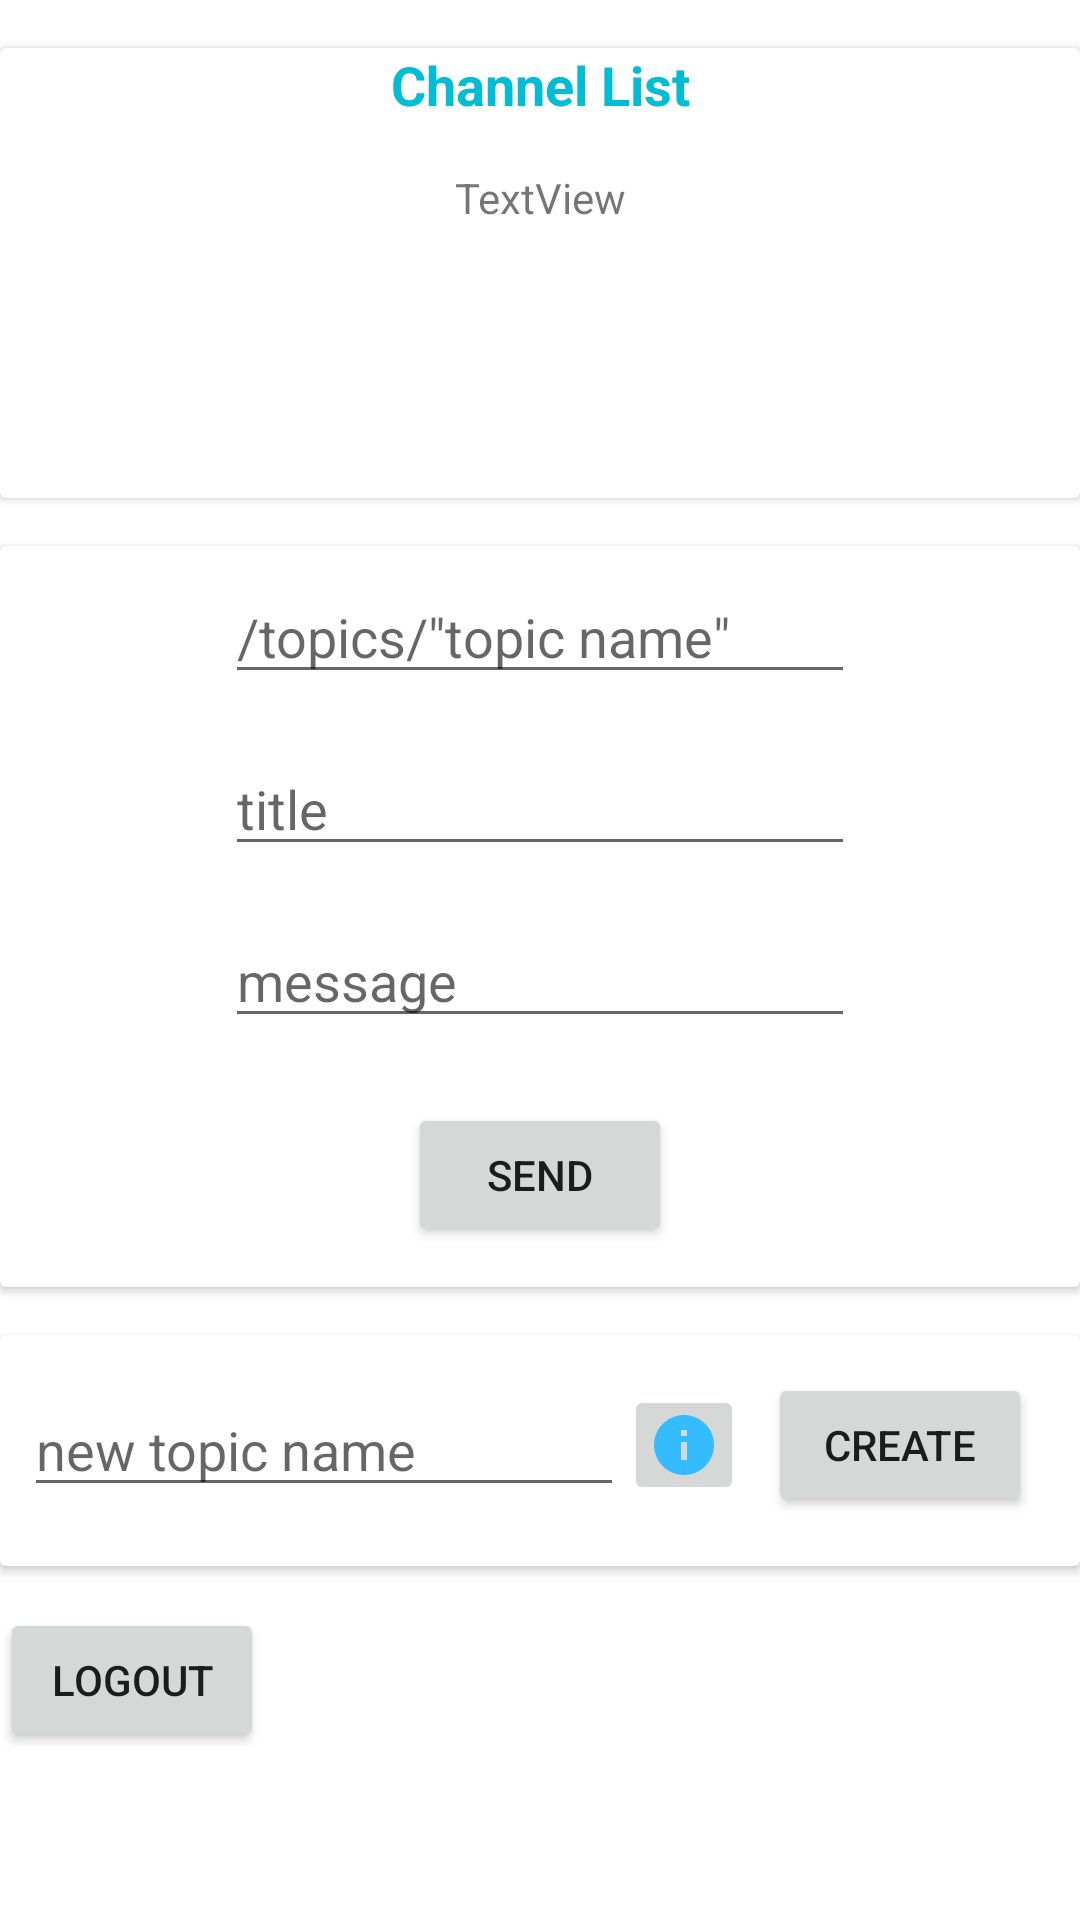

Named icons in this screenshot (1080px x 1920px) and their bounding boxes, bbox=[x1, y1, x2, y2]:
info: bbox=[636, 1403, 732, 1487]
